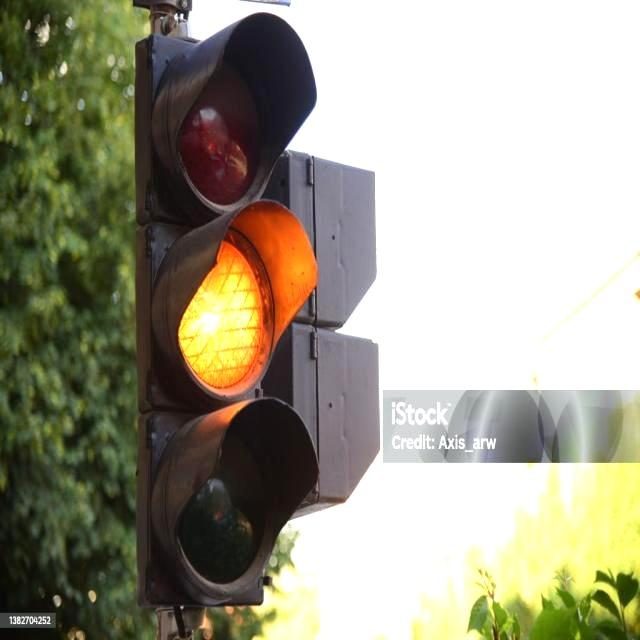Yellow: (151, 35, 270, 602)
